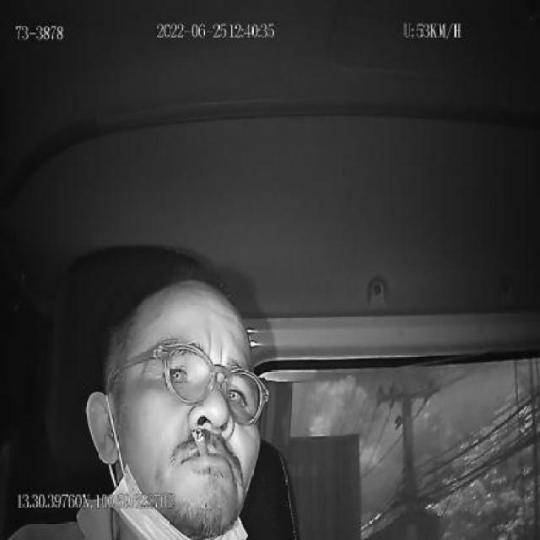smoking: (191, 428, 210, 460)
